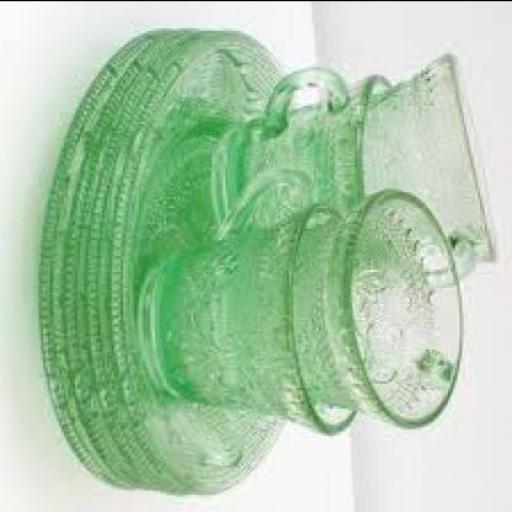glass: (43, 30, 289, 496), (141, 171, 362, 437), (284, 189, 464, 428), (219, 68, 398, 243), (364, 54, 498, 278)
